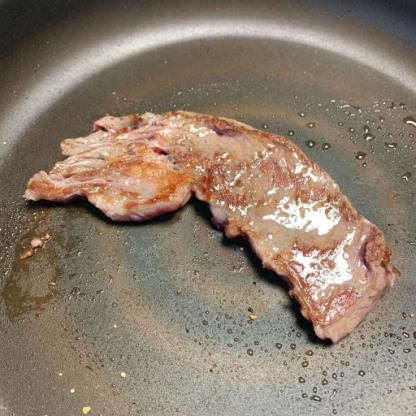Carne: (29, 102, 392, 340)
